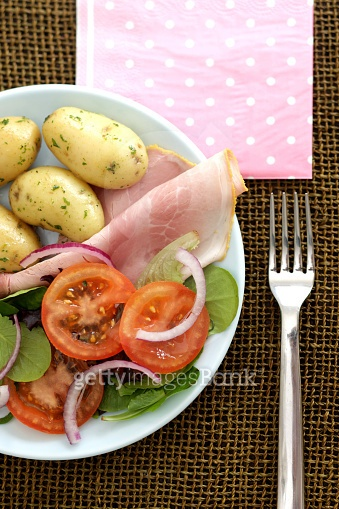boiled potatoes: (42, 108, 151, 191), (10, 164, 104, 248), (2, 112, 38, 187), (1, 209, 40, 269)
